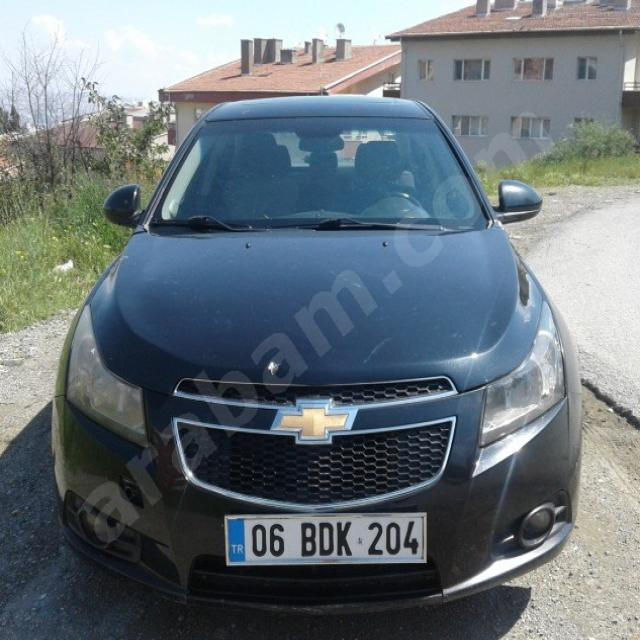license_plate: (225, 515, 426, 564)
